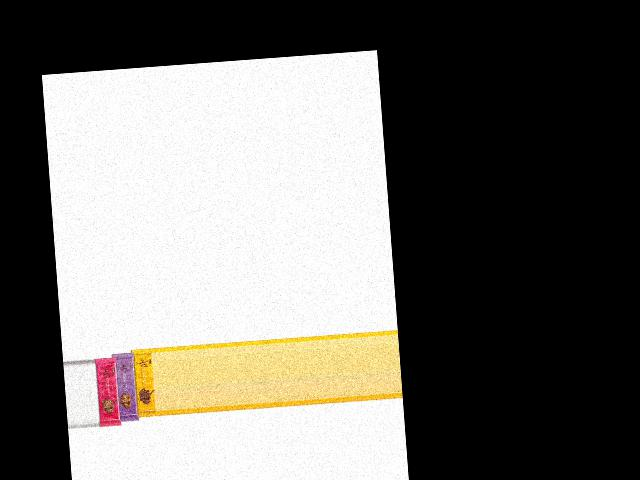chocolate: (93, 354, 121, 431)
